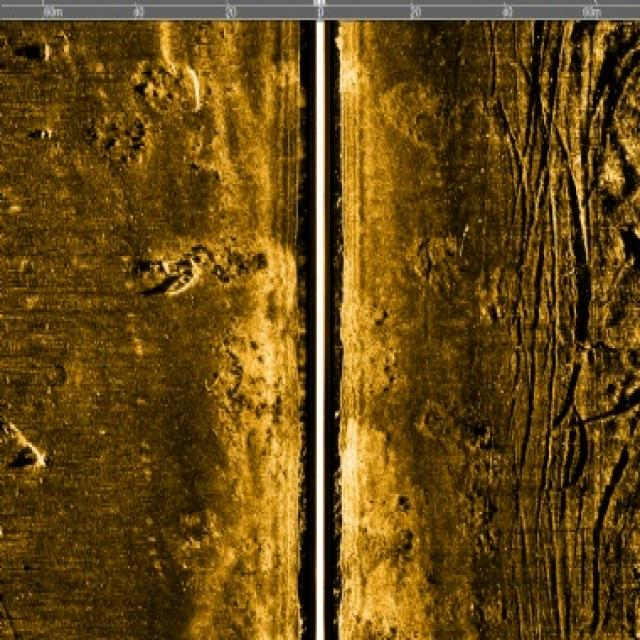ship: (160, 258, 197, 301)
